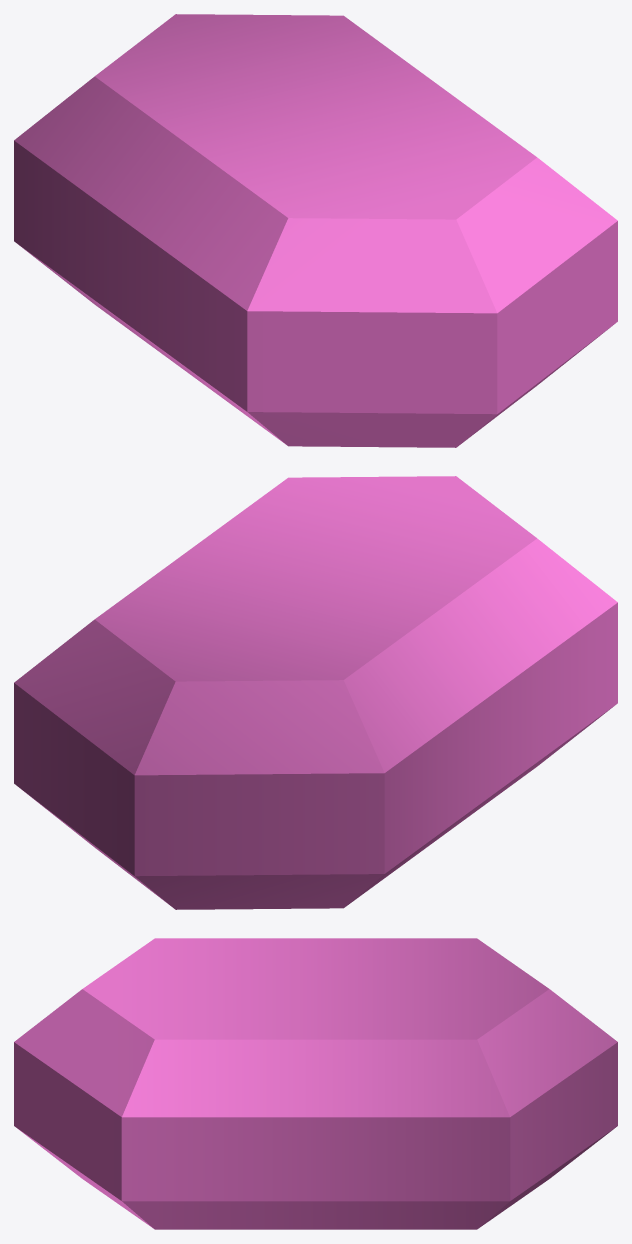
The model's file is Crystal003.fbx.
3 views of the same model, one above another, from view 1: azimuth 30°, elevation 25°; view 2: azimuth 150°, elevation 25°; view 3: azimuth 270°, elevation 25° (orthographic). The views are drawn at different scales.
Visible parts, largest first — view 1: Crystal003; view 2: Crystal003; view 3: Crystal003.
Boxes of the visible parts, box(x1,y1,x2,y2) form: Crystal003: box(14, 14, 617, 447); Crystal003: box(14, 476, 617, 909); Crystal003: box(14, 938, 617, 1229).
Bounding box in the file's own units: 85.49 × 50.3 × 145.
